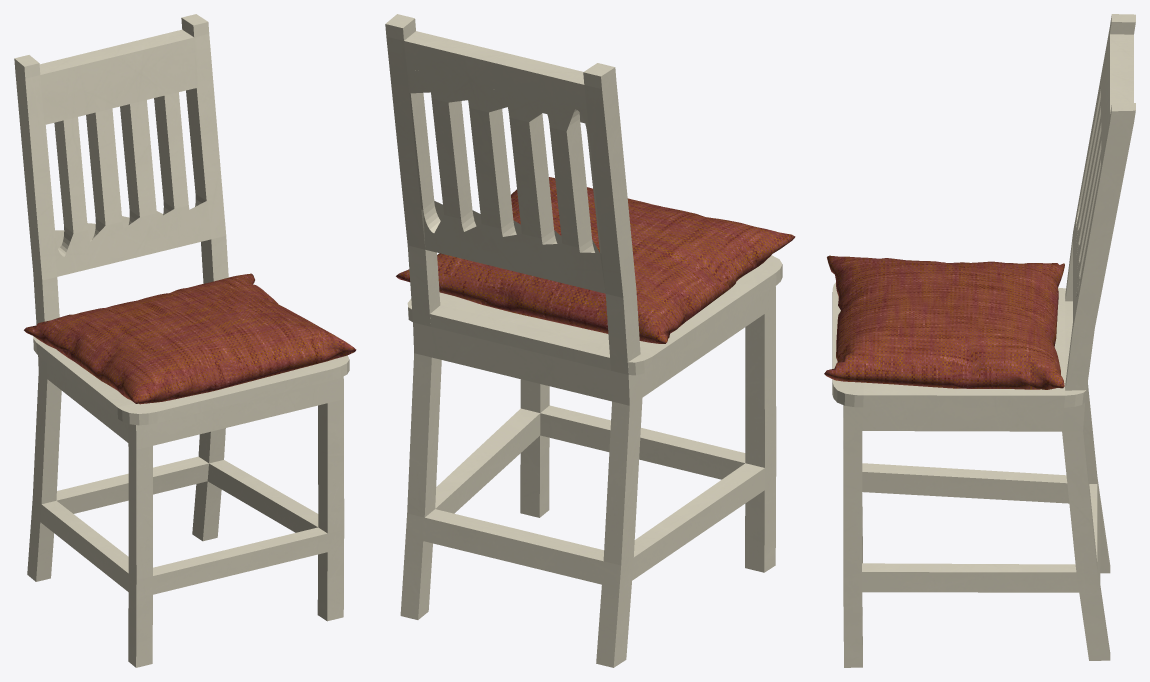
The model's file is Chair.obj.
The picture shows the model from 3 angles, left to right: view 1: azimuth 30°, elevation 25°; view 2: azimuth 150°, elevation 25°; view 3: azimuth 270°, elevation 25°; orthographic projection. The views are drawn at different scales.
Parts seen in each view (by area): view 1: Chair, Pillow; view 2: Chair, Pillow; view 3: Chair, Pillow.
Part boxes in pixels (x1,y1,x2,y2): Chair: (14, 14, 349, 667); Pillow: (24, 273, 356, 404); Chair: (385, 14, 782, 667); Pillow: (396, 177, 795, 343); Chair: (832, 14, 1135, 667); Pillow: (824, 255, 1064, 389).
Size of what is drawn, in the model's own units: 0.4254 by 0.9 by 0.462.
